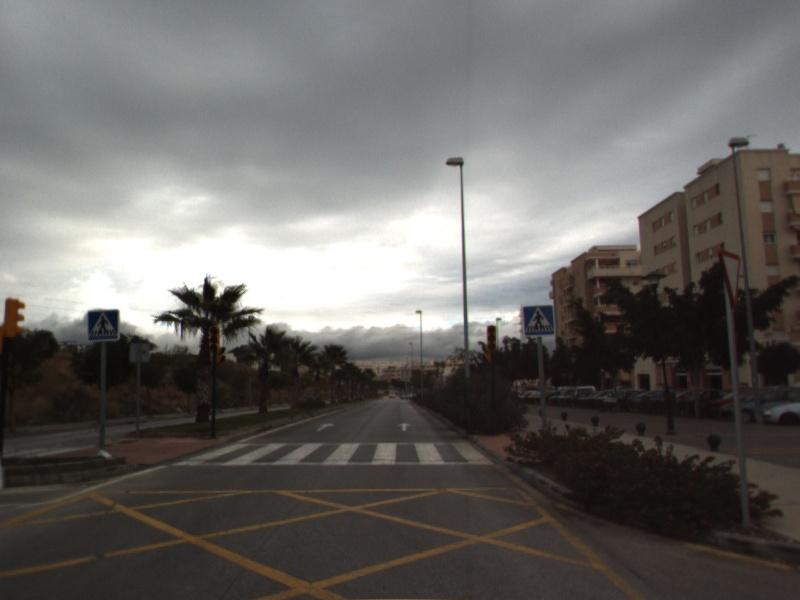STRAIGHT: (314, 420, 336, 434), (396, 420, 414, 433)
